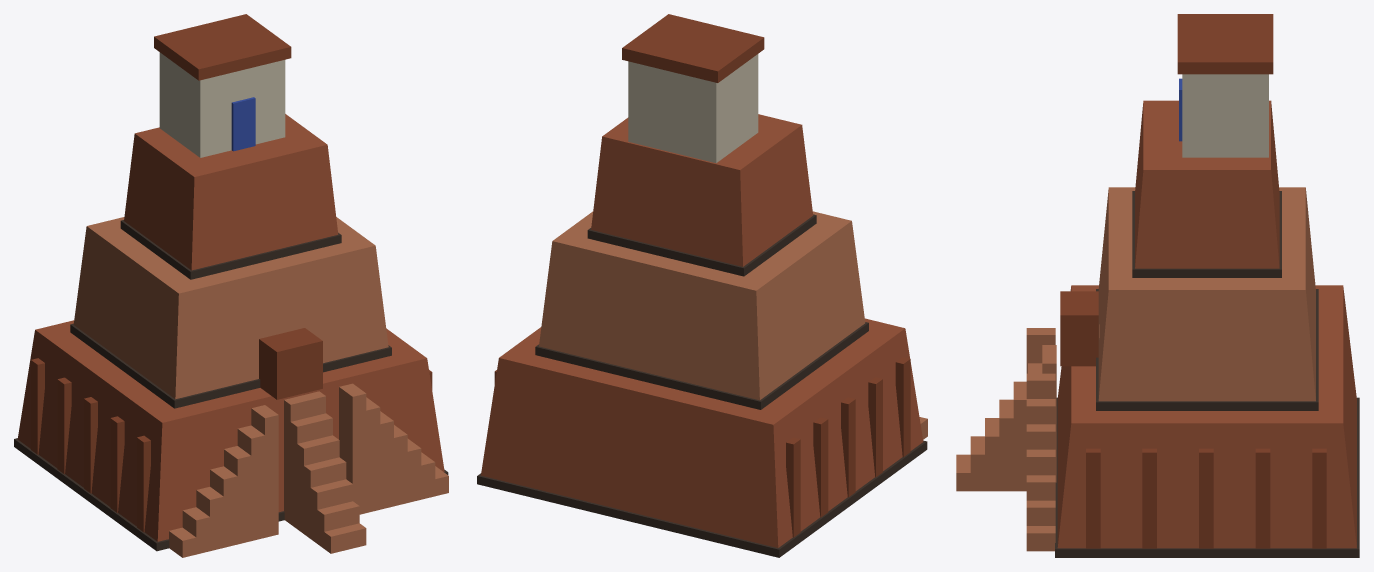
Rendered from ziggurat.glb.
3 views of the same model, side by side, from view 1: azimuth 30°, elevation 25°; view 2: azimuth 150°, elevation 25°; view 3: azimuth 270°, elevation 25° (orthographic). The views are drawn at different scales.
Parts seen in each view (by area): view 1: ziggurat; view 2: ziggurat; view 3: ziggurat.
Boxes of the visible parts, box(x1,y1,x2,y2) form: ziggurat: box(14, 14, 448, 557); ziggurat: box(477, 14, 927, 557); ziggurat: box(956, 14, 1359, 557).
Size of the model in its own units: 3.35 by 4.56 by 3.76.
